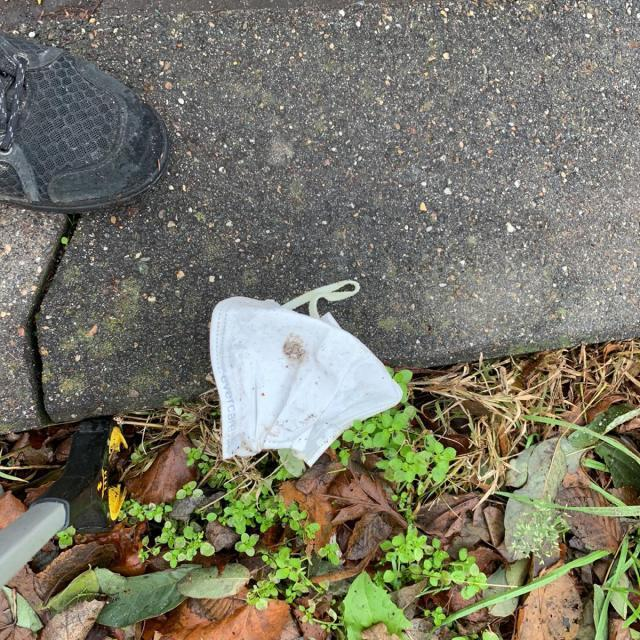Mask: (206, 276, 406, 472)
